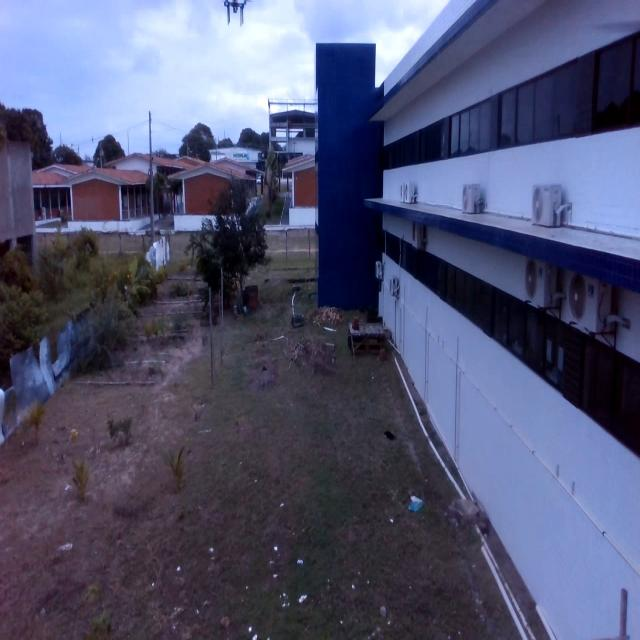-uav-: (218, 0, 252, 36)
